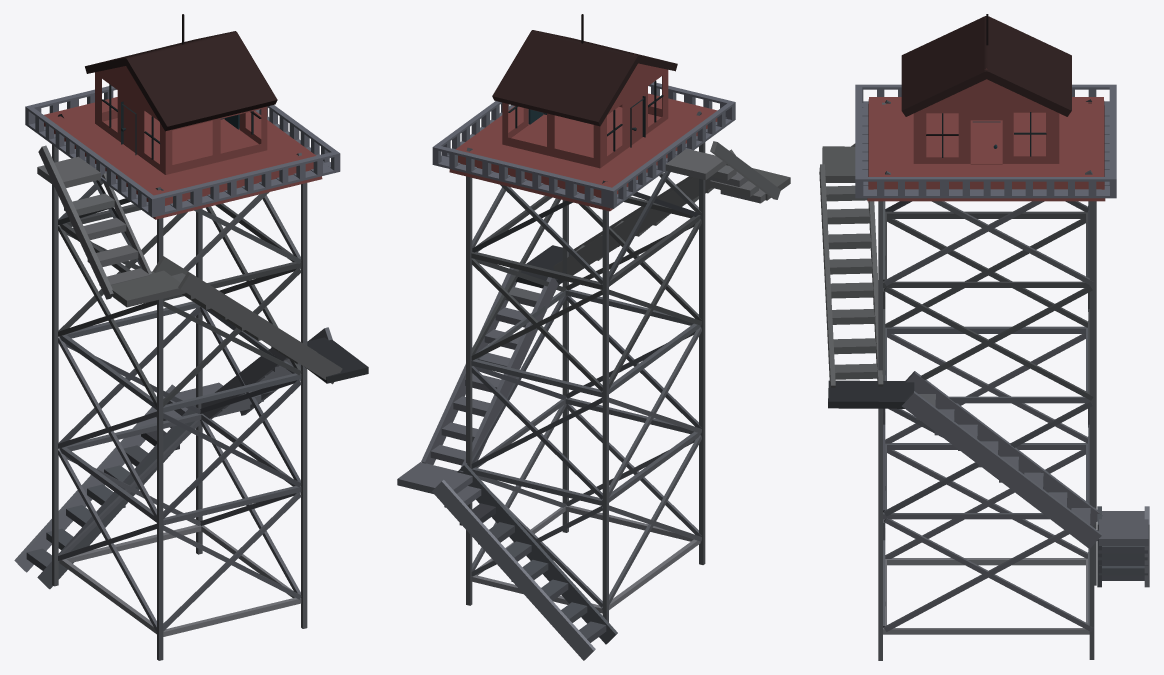
The model's file is WatchTower.glb.
The picture shows the model from 3 angles, left to right: view 1: azimuth 30°, elevation 25°; view 2: azimuth 150°, elevation 25°; view 3: azimuth 270°, elevation 25°; orthographic projection. The views are drawn at different scales.
Visible parts, largest first — view 1: Cube.070, walls, roof, Cube.032, Cube.093, Cube.088; view 2: Cube.070, walls, roof, Cube.032, Cube.093; view 3: Cube.070, walls, roof, Cube.032.
Part boxes in pixels (<box>): Cube.070: <box>14,114,368,660</box>; walls: <box>44,32,322,219</box>; roof: <box>85,31,277,131</box>; Cube.032: <box>25,86,340,217</box>; Cube.093: <box>37,156,100,187</box>; Cube.088: <box>64,193,114,215</box>; Cube.070: <box>397,111,790,660</box>; walls: <box>449,30,717,211</box>; roof: <box>492,30,677,126</box>; Cube.032: <box>432,82,735,208</box>; Cube.093: <box>665,148,726,180</box>; Cube.070: <box>819,99,1149,660</box>; walls: <box>867,68,1105,201</box>; roof: <box>901,16,1071,116</box>; Cube.032: <box>855,84,1116,198</box>.
Bounding box in the file's own units: 12.52 × 27.9 × 13.62.
